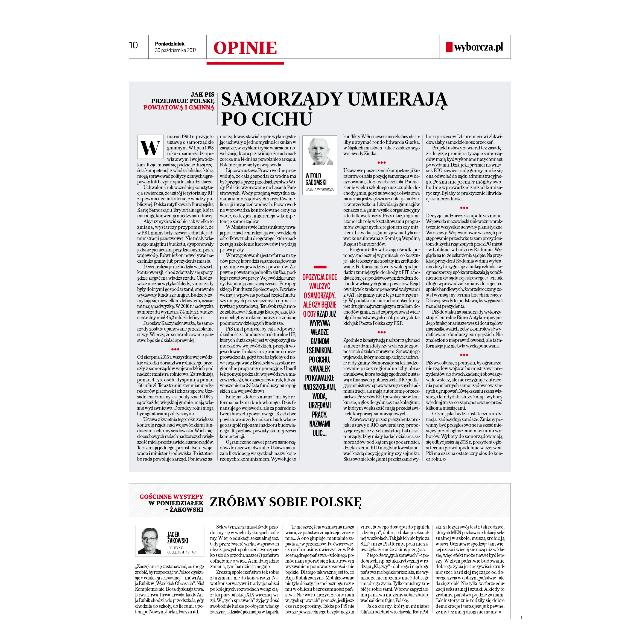article: (135, 85, 505, 463), (132, 490, 508, 618)
